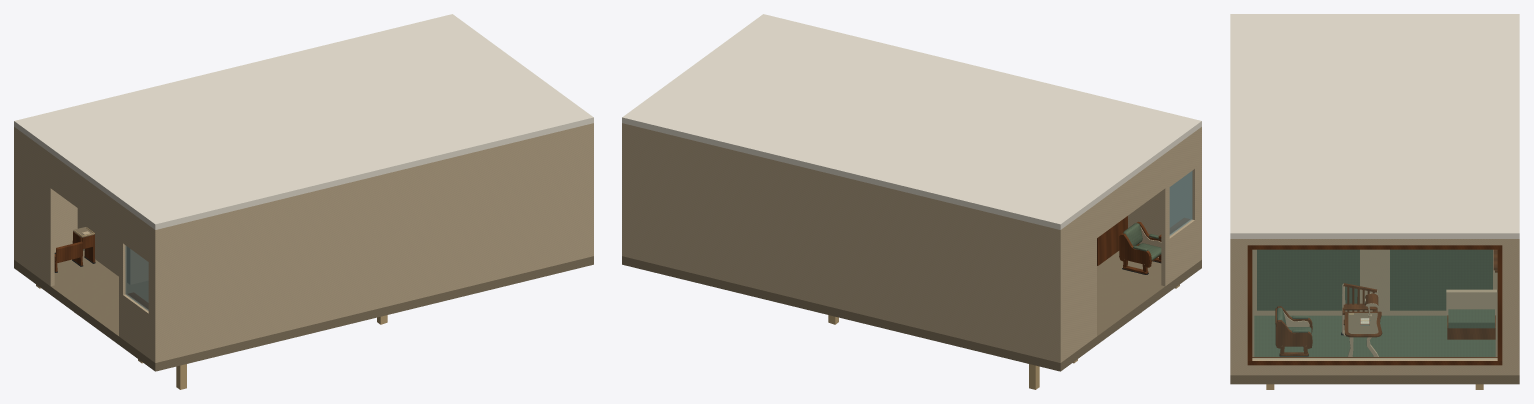
Rendered from NG524_WarmInterior_r001.glb.
3 renders of one model, left to right at view 1: azimuth 30°, elevation 25°; view 2: azimuth 150°, elevation 25°; view 3: azimuth 270°, elevation 25°, orthographic. The views are drawn at different scales.
Parts seen in each view (by area): view 1: NG524_RuntimeBatch_001, NG524_RoomFloor, NG524_ScreenedStreetGlass, NG524_RuntimeBatch_013; view 2: NG524_RuntimeBatch_001, NG524_RoomFloor, NG524_ScreenedStreetGlass, NG524_RuntimeBatch_049, NG524_RuntimeBatch_002; view 3: NG524_RuntimeBatch_001, NGP_524_PrivateViewPane, NG524_RuntimeBatch_006, NGW_524_OutlookFloorInlay, NG524_RoomFloor, NGP_524_Frame_Sill, NGP_524_Frame_Head, NGP_524_ViewSeat_Back, NG524_RuntimeBatch_028, NG524_RuntimeBatch_007, NGP_524_ViewSeat_Cushion, NGP_524_Frame_Left (+4 smaller).
Part boxes in pixels (x1,y1,x2,y2): NG524_RuntimeBatch_001: (14, 14, 593, 362); NG524_RoomFloor: (14, 250, 593, 371); NG524_ScreenedStreetGlass: (125, 245, 148, 310); NG524_RuntimeBatch_013: (54, 231, 95, 271); NG524_RuntimeBatch_001: (622, 14, 1201, 362); NG524_RoomFloor: (622, 251, 1201, 371); NG524_ScreenedStreetGlass: (1169, 171, 1192, 235); NG524_RuntimeBatch_049: (1119, 221, 1161, 274); NG524_RuntimeBatch_002: (1097, 216, 1190, 265); NG524_RuntimeBatch_001: (1230, 14, 1519, 375); NGP_524_PrivateViewPane: (1252, 250, 1497, 358); NG524_RuntimeBatch_006: (1257, 249, 1492, 310); NGW_524_OutlookFloorInlay: (1254, 315, 1495, 356); NG524_RoomFloor: (1230, 249, 1519, 384); NGP_524_Frame_Sill: (1247, 357, 1502, 365); NGP_524_Frame_Head: (1247, 245, 1502, 249); NGP_524_ViewSeat_Back: (1446, 289, 1496, 315); NG524_RuntimeBatch_028: (1275, 306, 1312, 355); NG524_RuntimeBatch_007: (1342, 283, 1382, 337); NGP_524_ViewSeat_Cushion: (1448, 309, 1494, 328); NGP_524_Frame_Left: (1497, 249, 1502, 360).
Size of the model in its own units: 12.9 by 5.31 by 7.2.
45 materials, 20 textured.
